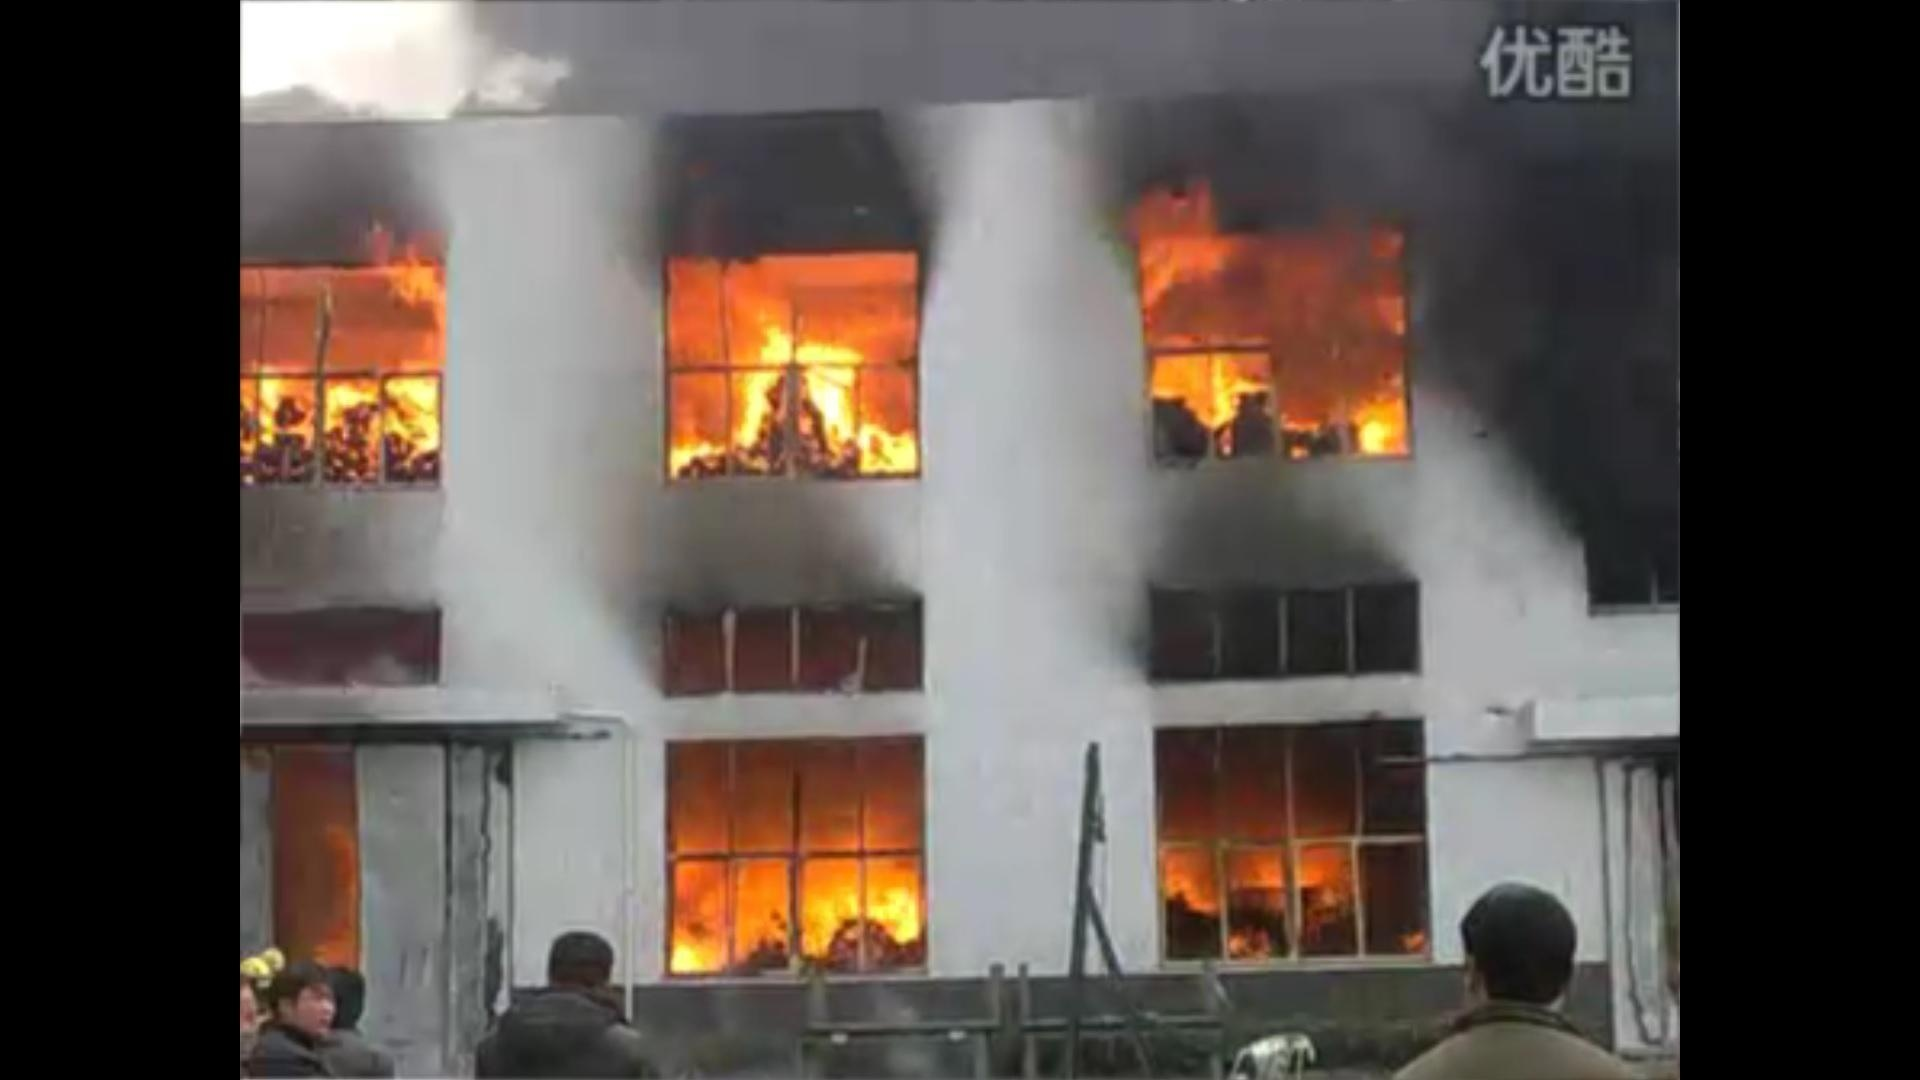fire: (1126, 200, 1419, 460), (659, 264, 919, 479), (237, 239, 448, 475), (657, 840, 920, 969), (1164, 837, 1350, 936)
